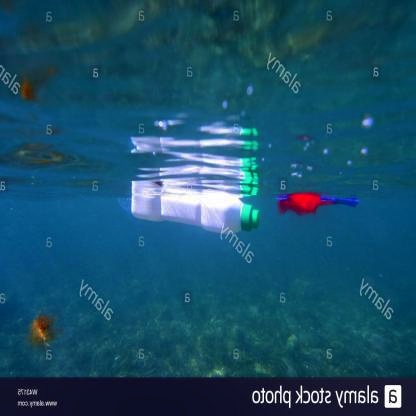pbottle: (129, 184, 263, 239)
